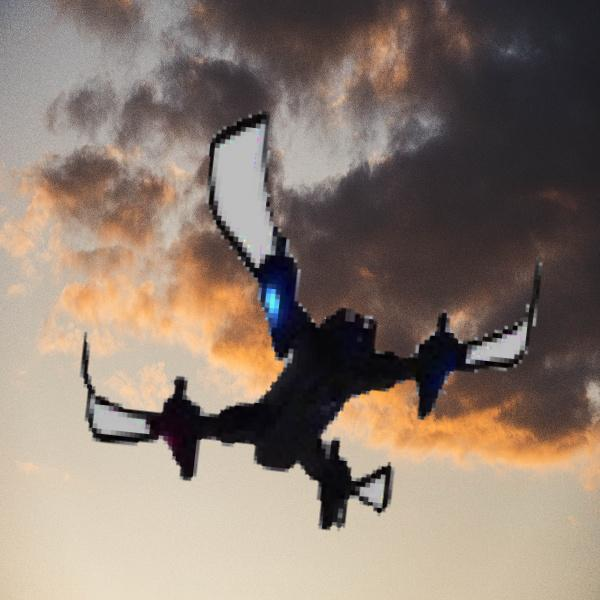drone: (79, 70, 558, 549)
